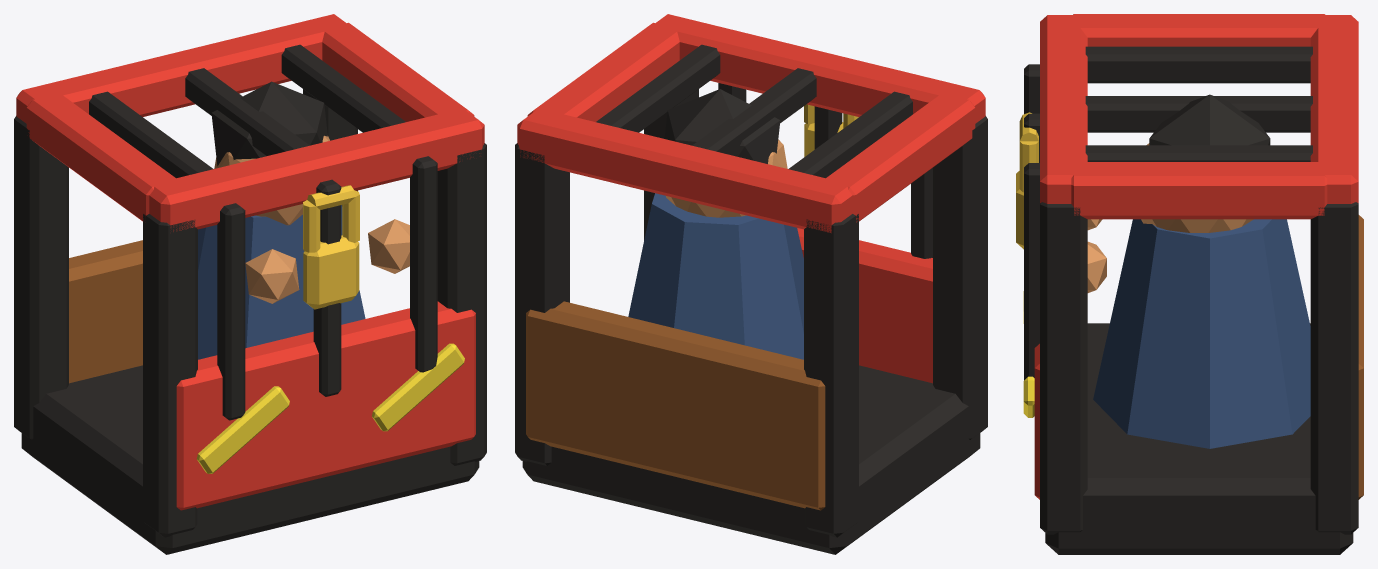
Rendered from asylum.glb.
The picture shows the model from 3 angles, left to right: view 1: azimuth 30°, elevation 25°; view 2: azimuth 150°, elevation 25°; view 3: azimuth 270°, elevation 25°; orthographic projection. The views are drawn at different scales.
Visible parts, largest first — view 1: asylum-crate-front-panel, asylum-crate-floor, asylum-roof-front, asylum-reinforced-post--0.33-0.255, asylum-reinforced-post--0.33--0.255, asylum-roof-back, asylum-reinforced-post-0.33--0.255, asylum-crate-back-panel, asylum-blanket-bundle, asylum-roof-left, asylum-roof-right, asylum-front-bar-0 (+16 smaller); view 2: asylum-crate-back-panel, asylum-crate-floor, asylum-blanket-bundle, asylum-roof-back, asylum-reinforced-post--0.33--0.255, asylum-reinforced-post--0.33-0.255, asylum-roof-front, asylum-reinforced-post-0.33-0.255, asylum-crate-front-panel, asylum-roof-left, asylum-roof-right, asylum-roof-bar-2 (+7 smaller); view 3: asylum-blanket-bundle, asylum-crate-floor, asylum-reinforced-post-0.33-0.255, asylum-reinforced-post-0.33--0.255, asylum-roof-right, asylum-roof-bar-0, asylum-roof-back, asylum-roof-front, asylum-roof-left, asylum-roof-bar-1, asylum-occupant-hair, asylum-roof-bar-2 (+9 smaller).
Boxes of the visible parts, x1=… form: asylum-crate-front-panel: x1=176, y1=301, x2=475, y2=510; asylum-crate-floor: x1=21, y1=365, x2=479, y2=554; asylum-roof-front: x1=149, y1=108, x2=484, y2=231; asylum-reinforced-post--0.33-0.255: x1=14, y1=116, x2=68, y2=439; asylum-reinforced-post--0.33--0.255: x1=143, y1=214, x2=197, y2=537; asylum-roof-back: x1=16, y1=14, x2=348, y2=123; asylum-reinforced-post-0.33--0.255: x1=437, y1=143, x2=486, y2=465; asylum-crate-back-panel: x1=69, y1=240, x2=142, y2=383; asylum-blanket-bundle: x1=198, y1=205, x2=365, y2=359; asylum-roof-left: x1=26, y1=94, x2=175, y2=222; asylum-roof-right: x1=322, y1=22, x2=474, y2=121; asylum-front-bar-0: x1=217, y1=203, x2=245, y2=420; asylum-crate-back-panel: x1=526, y1=301, x2=825, y2=510; asylum-crate-floor: x1=522, y1=365, x2=980, y2=554; asylum-blanket-bundle: x1=628, y1=193, x2=803, y2=359; asylum-roof-back: x1=517, y1=108, x2=852, y2=233; asylum-reinforced-post--0.33--0.255: x1=933, y1=116, x2=987, y2=439; asylum-reinforced-post--0.33-0.255: x1=804, y1=214, x2=858, y2=537; asylum-roof-front: x1=652, y1=14, x2=985, y2=123; asylum-reinforced-post-0.33-0.255: x1=515, y1=143, x2=569, y2=465; asylum-crate-front-panel: x1=797, y1=228, x2=932, y2=383; asylum-roof-left: x1=825, y1=95, x2=975, y2=222; asylum-roof-right: x1=527, y1=22, x2=679, y2=121; asylum-roof-bar-2: x1=596, y1=44, x2=720, y2=132; asylum-blanket-bundle: x1=1093, y1=219, x2=1310, y2=448; asylum-crate-floor: x1=1045, y1=323, x2=1353, y2=554; asylum-reinforced-post-0.33-0.255: x1=1310, y1=202, x2=1358, y2=534; asylum-reinforced-post-0.33--0.255: x1=1040, y1=202, x2=1087, y2=534; asylum-roof-right: x1=1071, y1=162, x2=1327, y2=219; asylum-roof-bar-0: x1=1085, y1=46, x2=1312, y2=83; asylum-roof-back: x1=1310, y1=15, x2=1358, y2=203; asylum-roof-front: x1=1040, y1=15, x2=1087, y2=203; asylum-roof-left: x1=1073, y1=14, x2=1325, y2=46; asylum-roof-bar-1: x1=1085, y1=96, x2=1312, y2=132; asylum-occupant-hair: x1=1149, y1=94, x2=1270, y2=145; asylum-roof-bar-2: x1=1085, y1=145, x2=1312, y2=161.
Bounding box in the file's own units: 0.9102 × 1 × 0.7949.
